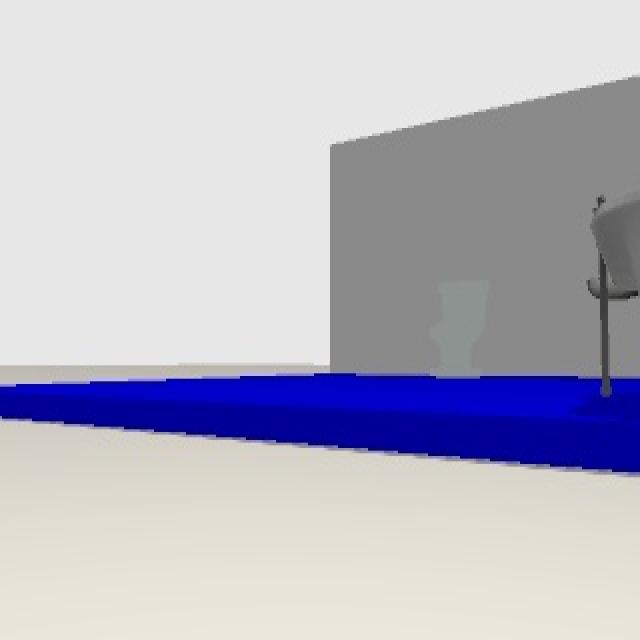bathtub: (586, 195, 638, 400)
